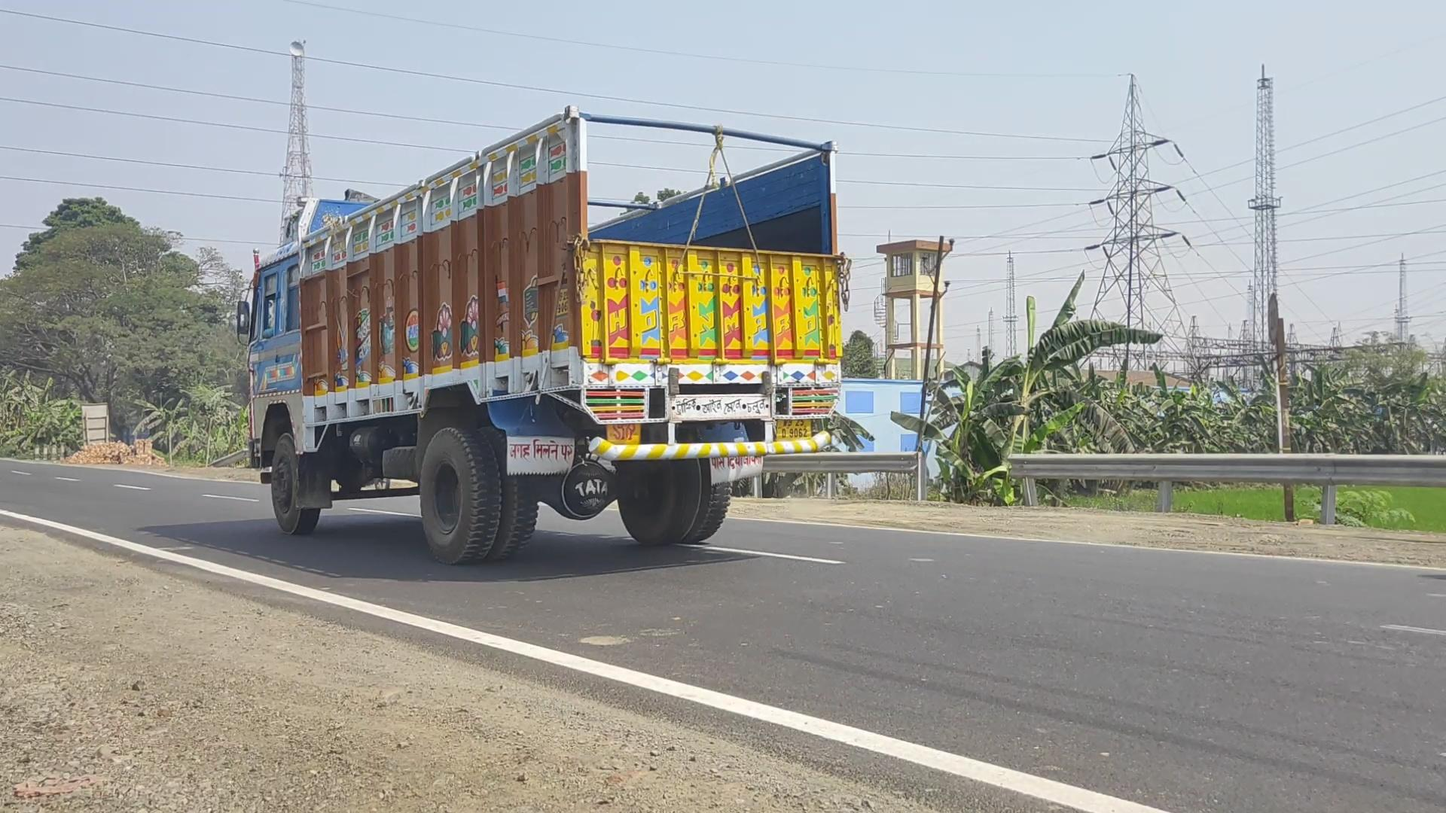truck: (236, 106, 852, 567)
